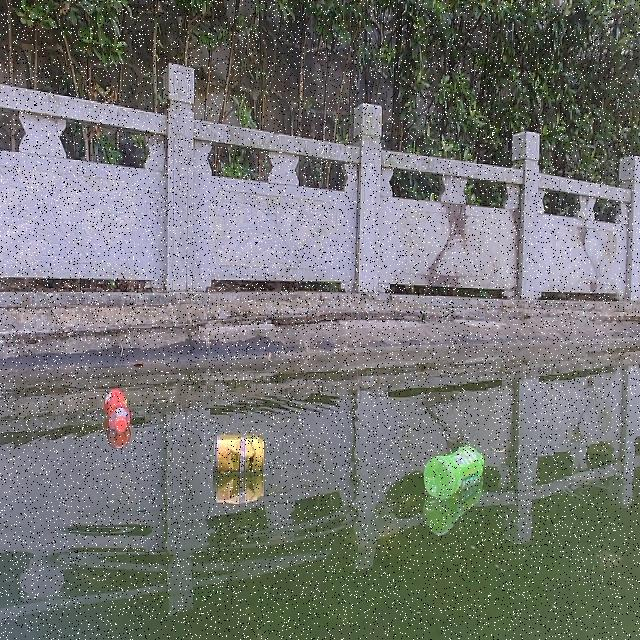Bottle: (422, 442, 487, 498), (103, 388, 130, 431)
Can: (212, 433, 266, 478)
